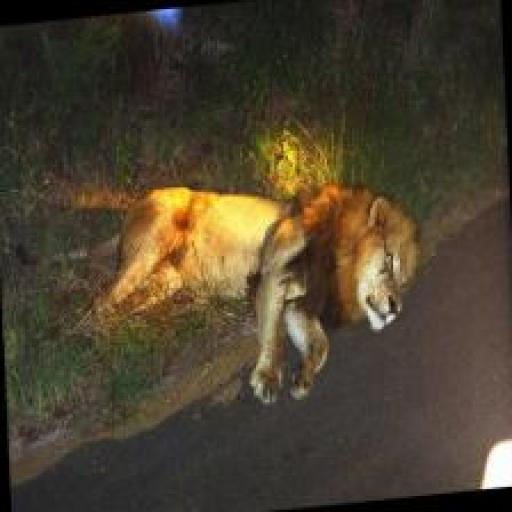lion: (14, 162, 431, 432)
